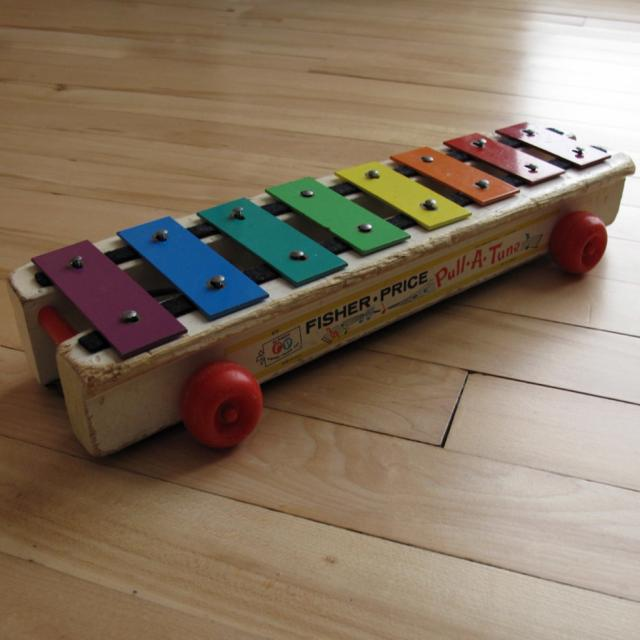Toy: (7, 122, 635, 455)
